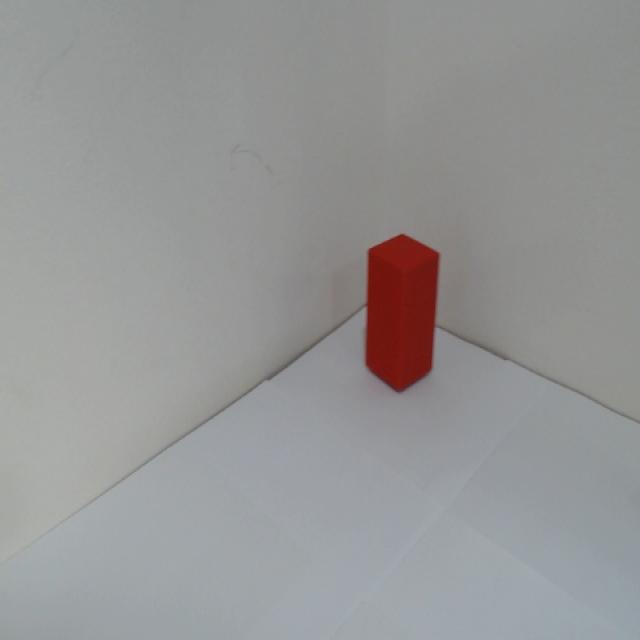cube: (356, 227, 442, 400)
